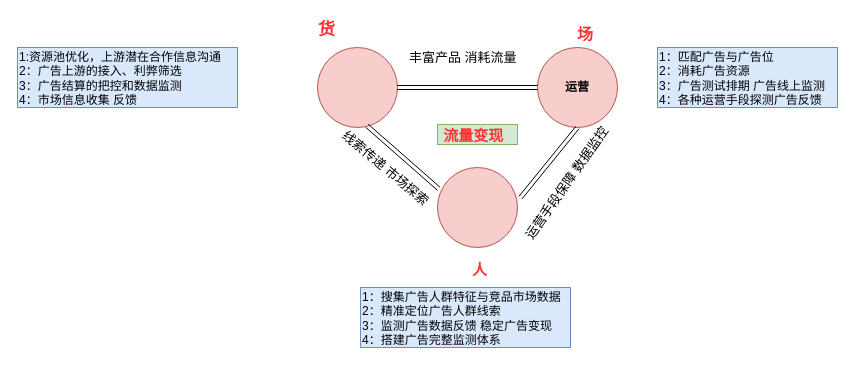
This 855x365 diagram has some shape labels left out. The box of each missing label's shape, as (x1, y1, x2, y2) in pixels:
商务: (316, 46, 398, 128)
数据策略: (436, 166, 518, 248)
